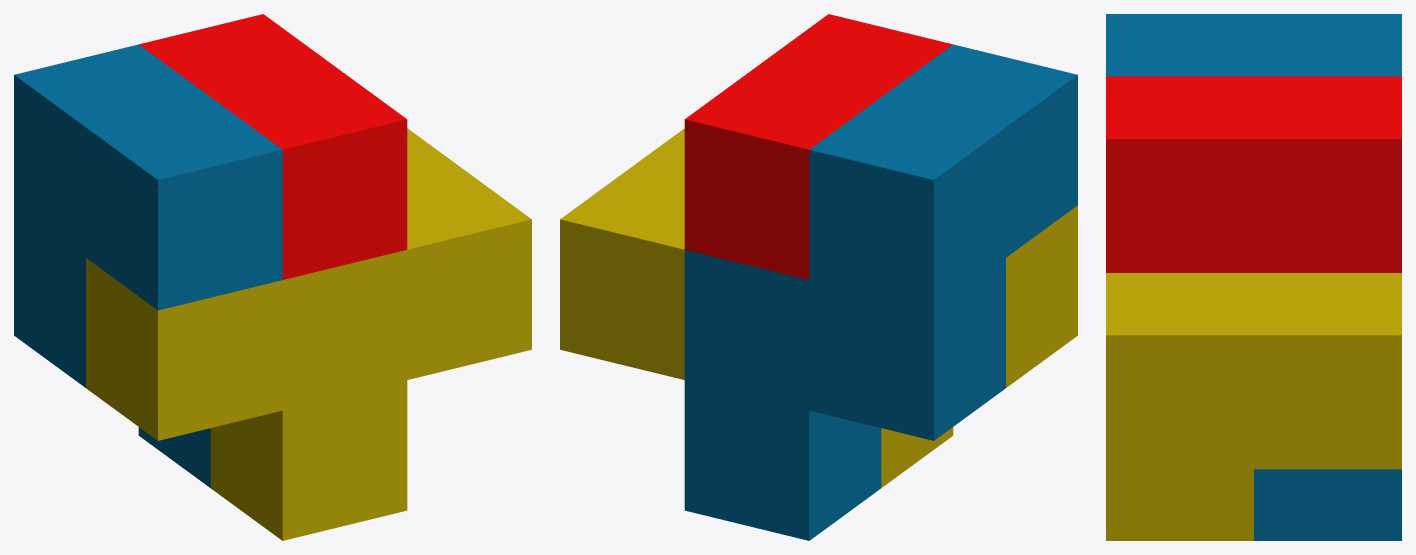
3 renders of one model, left to right at view 1: azimuth 30°, elevation 25°; view 2: azimuth 150°, elevation 25°; view 3: azimuth 270°, elevation 25°, orthographic. The views are drawn at different scales.
Visible parts, largest first — view 1: mergedBlocks(Clone); view 2: mergedBlocks(Clone); view 3: mergedBlocks(Clone).
Part boxes in pixels (x1=…): mergedBlocks(Clone): x1=14, y1=14, x2=531, y2=540; mergedBlocks(Clone): x1=560, y1=14, x2=1077, y2=540; mergedBlocks(Clone): x1=1106, y1=14, x2=1401, y2=540.
Bounding box in the file's own units: 3 × 3 × 2.
3 materials, 3 textured.
